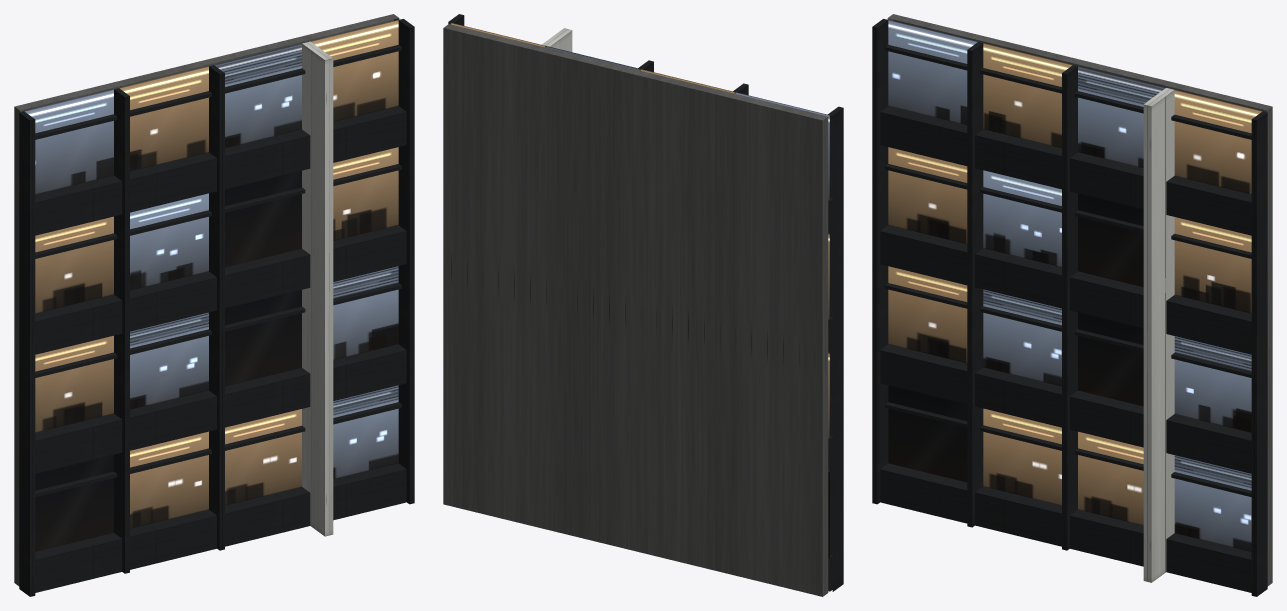
Rendered from SM_INFD_FacadePanel_OFF.fbx.
3 renders of one model, left to right at view 1: azimuth 30°, elevation 25°; view 2: azimuth 150°, elevation 25°; view 3: azimuth 330°, elevation 25°, orthographic.
Parts seen in each view (by area): view 1: SM_INFD_FacadePanel_OFF; view 2: SM_INFD_FacadePanel_OFF; view 3: SM_INFD_FacadePanel_OFF.
Part boxes in pixels (x1,y1,x2,y2): SM_INFD_FacadePanel_OFF: [14, 14, 414, 596]; SM_INFD_FacadePanel_OFF: [443, 14, 843, 596]; SM_INFD_FacadePanel_OFF: [872, 14, 1272, 596].
Size of the model in its own units: 12.16 by 14.4 by 1.65.
